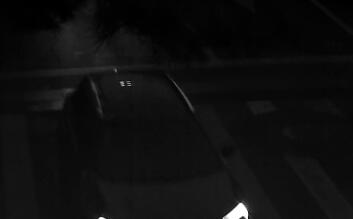car: (63, 64, 250, 217)
